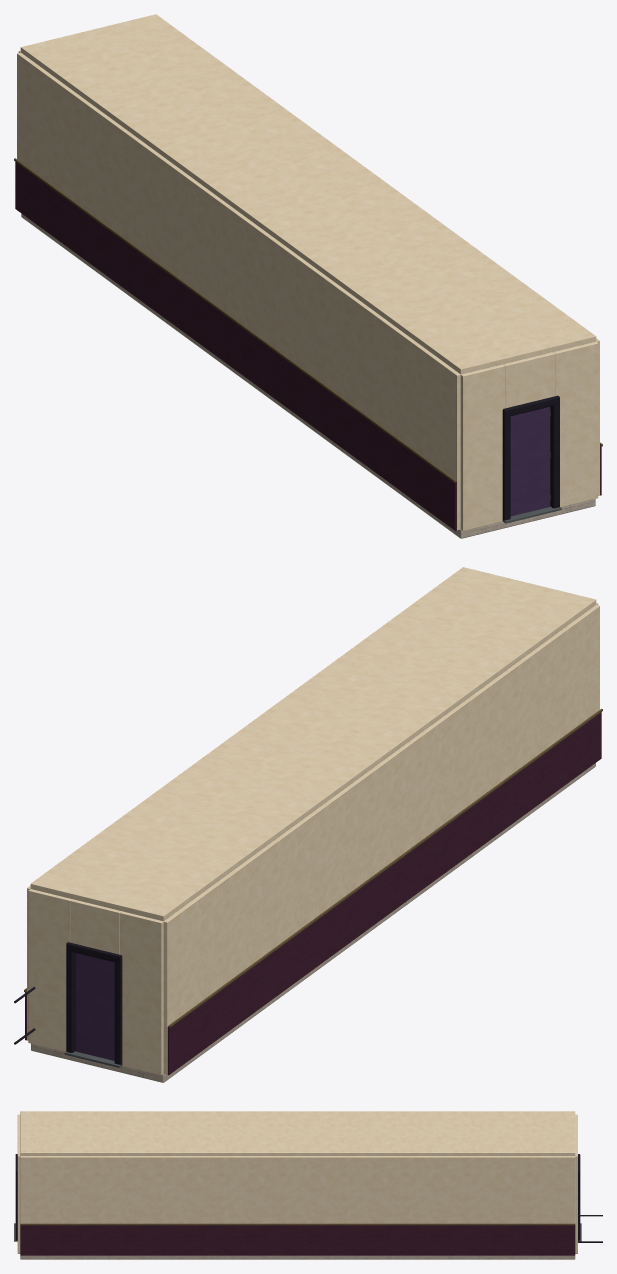
File: explore3d__staff_passage.glb
3 views of the same model, one above another, from view 1: azimuth 30°, elevation 25°; view 2: azimuth 150°, elevation 25°; view 3: azimuth 270°, elevation 25° (orthographic). The views are drawn at different scales.
Parts seen in each view (by area): view 1: ceiling.011, wall.030, lower_panel.029, wall.027, wall.026, front.018_leaf, staff_passage_floor, door_lintel.005, panel_rail.029, front.018_jamb, front.018_jamb.001; view 2: ceiling.011, wall.030, lower_panel.029, wall.028, wall.029, north.005_leaf, staff_passage_floor, door_lintel.006, panel_rail.029, north.005_jamb.001, north.005_jamb; view 3: wall.031, ceiling.011, lower_panel.030, staff_passage_floor, panel_rail.030, wall.026, wall.029.
Boxes of the visible parts, left/top/right/bottom form: ceiling.011: left=20, top=14, right=596, bottom=374; wall.030: left=17, top=52, right=460, bottom=530; lower_panel.029: left=15, top=162, right=456, bottom=530; wall.027: left=460, top=364, right=505, bottom=530; wall.026: left=553, top=341, right=598, bottom=507; front.018_leaf: left=510, top=406, right=550, bottom=516; staff_passage_floor: left=21, top=213, right=595, bottom=538; door_lintel.005: left=503, top=352, right=555, bottom=408; panel_rail.029: left=14, top=158, right=455, bottom=482; front.018_jamb: left=550, top=400, right=559, bottom=508; front.018_jamb.001: left=502, top=413, right=510, bottom=520; ceiling.011: left=30, top=567, right=596, bottom=921; wall.030: left=163, top=605, right=599, bottom=1074; lower_panel.029: left=167, top=712, right=601, bottom=1074; wall.028: left=119, top=911, right=163, bottom=1075; wall.029: left=28, top=889, right=72, bottom=1051; north.005_leaf: left=75, top=953, right=114, bottom=1060; staff_passage_floor: left=31, top=763, right=595, bottom=1082; door_lintel.006: left=70, top=899, right=121, bottom=954; panel_rail.029: left=168, top=709, right=602, bottom=1027; north.005_jamb.001: left=66, top=948, right=75, bottom=1052; north.005_jamb: left=114, top=959, right=122, bottom=1065; wall.031: left=20, top=1156, right=575, bottom=1223; ceiling.011: left=20, top=1111, right=575, bottom=1155; lower_panel.030: left=20, top=1225, right=575, bottom=1255; staff_passage_floor: left=20, top=1255, right=575, bottom=1259; panel_rail.030: left=20, top=1223, right=575, bottom=1225; wall.026: left=17, top=1143, right=20, bottom=1253; wall.029: left=575, top=1143, right=577, bottom=1253.
Size of the model in its own units: 3.52 by 3.84 by 19.11.
10 materials, 9 textured.
